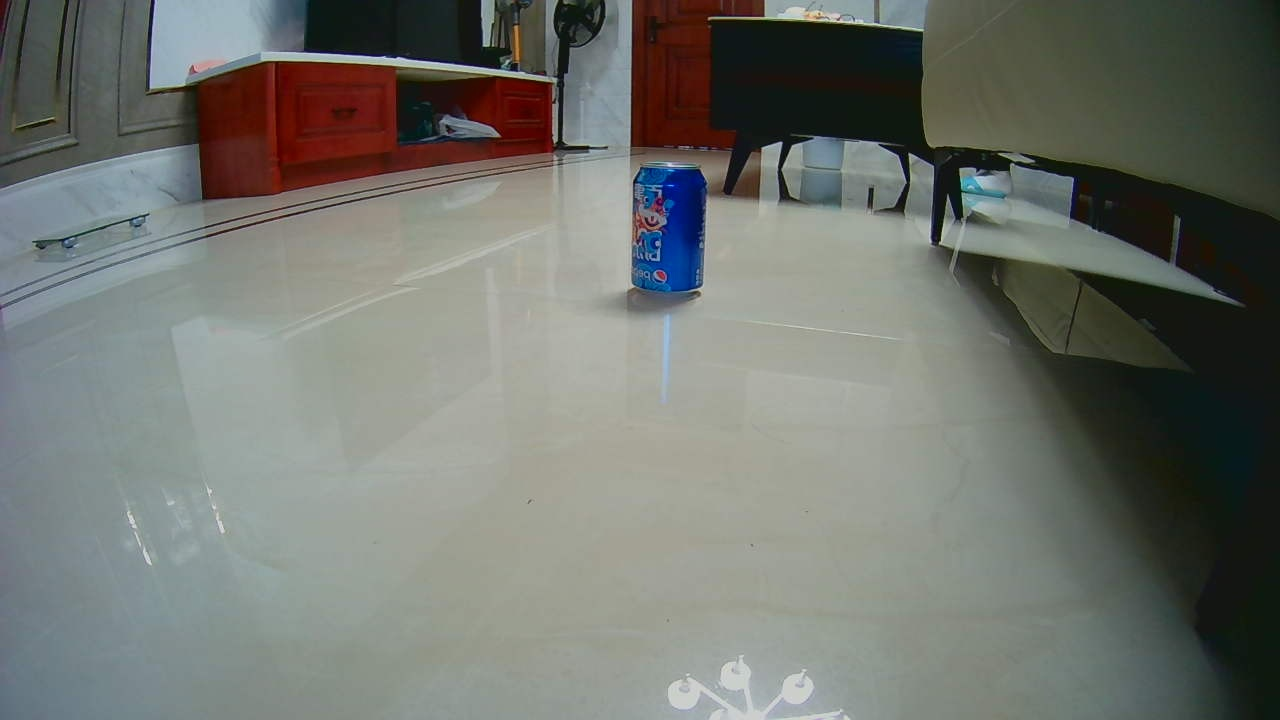pessi: (631, 163, 704, 296)
